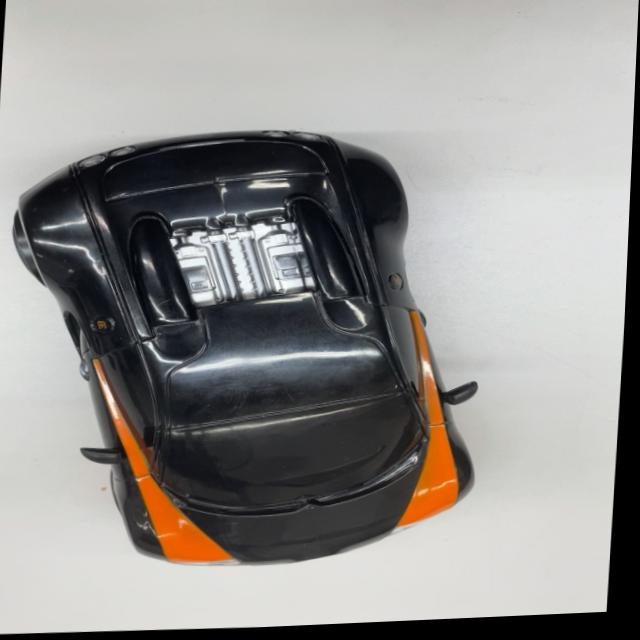vehicle_body: (0, 114, 498, 582)
